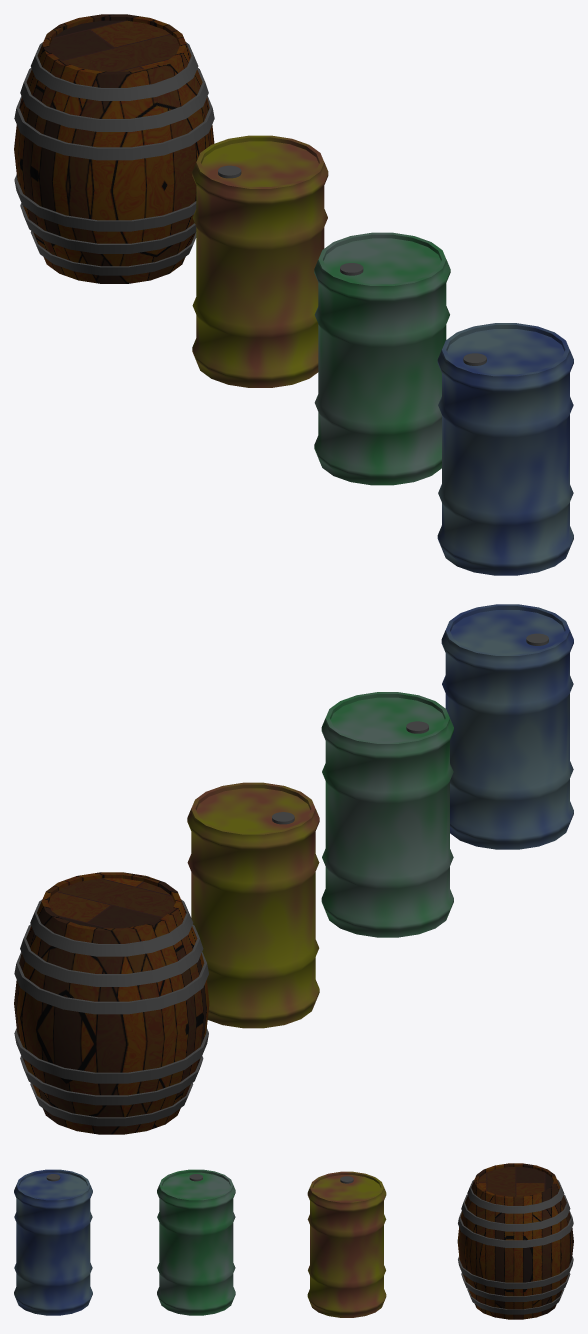
File: barrel.fbx
3 renders of one model, top to bottom at view 1: azimuth 30°, elevation 25°; view 2: azimuth 150°, elevation 25°; view 3: azimuth 270°, elevation 25°, orthographic. The views are drawn at different scales.
Visible parts, largest first — view 1: Barrel_3, Barrel_1.002, Barrel_1.001, Barrel_1; view 2: Barrel_3, Barrel_1.001, Barrel_1.002, Barrel_1; view 3: Barrel_3, Barrel_1.001, Barrel_1.002, Barrel_1.
Part boxes in pixels (x1,y1,x2,y2): Barrel_3: [14, 14, 214, 283]; Barrel_1.002: [437, 323, 573, 575]; Barrel_1.001: [314, 232, 450, 485]; Barrel_1: [192, 135, 328, 387]; Barrel_3: [14, 872, 209, 1134]; Barrel_1.001: [321, 692, 453, 937]; Barrel_1.002: [441, 604, 573, 849]; Barrel_1: [187, 782, 319, 1028]; Barrel_3: [457, 1163, 573, 1319]; Barrel_1.001: [157, 1169, 235, 1315]; Barrel_1.002: [14, 1169, 92, 1315]; Barrel_1: [307, 1171, 386, 1317].
Size of the model in its own units: 0.8585 by 1.01 by 4.19.
1 material, 1 textured.
